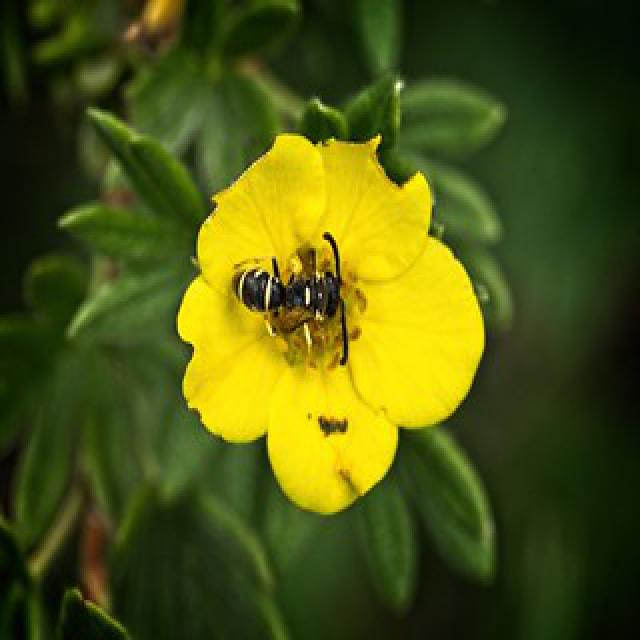Guepe: (226, 222, 366, 361)
